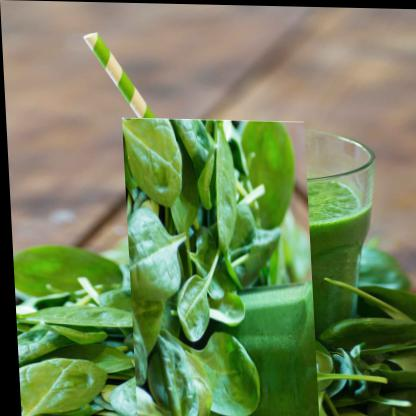spinach: (64, 173, 375, 415)
